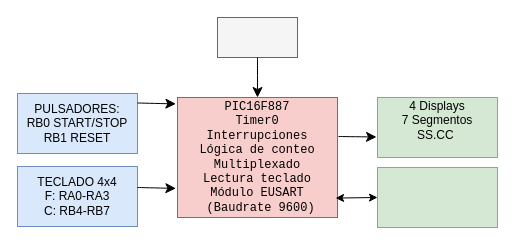
Image size: 515x245. Some labels were removed from this diagram. Here are the shapes that lost their labels. From the top down, the centre of each, then its label:
the point at 257,37: CRISTAL 4MHz
the point at 437,197: PC / HÉRCULES: Salida Serie por TX (RC6)
